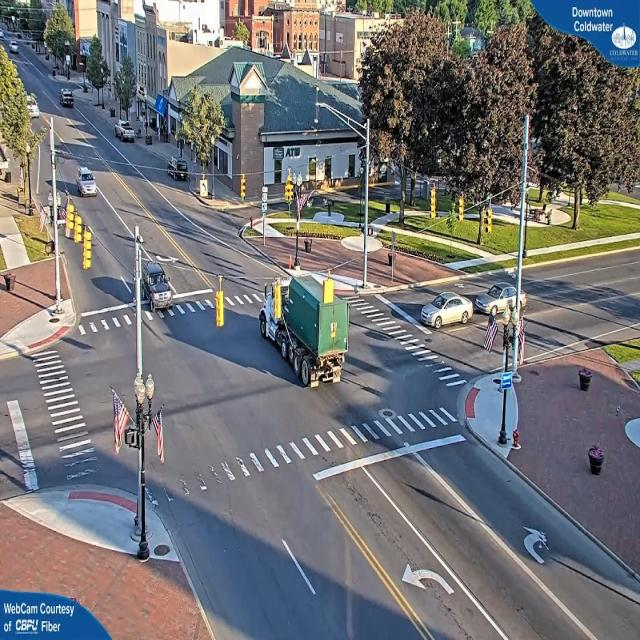car: (418, 288, 476, 328), (476, 275, 526, 318), (140, 261, 176, 312), (75, 170, 97, 198), (164, 159, 189, 180), (116, 123, 135, 143), (60, 90, 75, 109)
truck: (255, 273, 357, 387)
